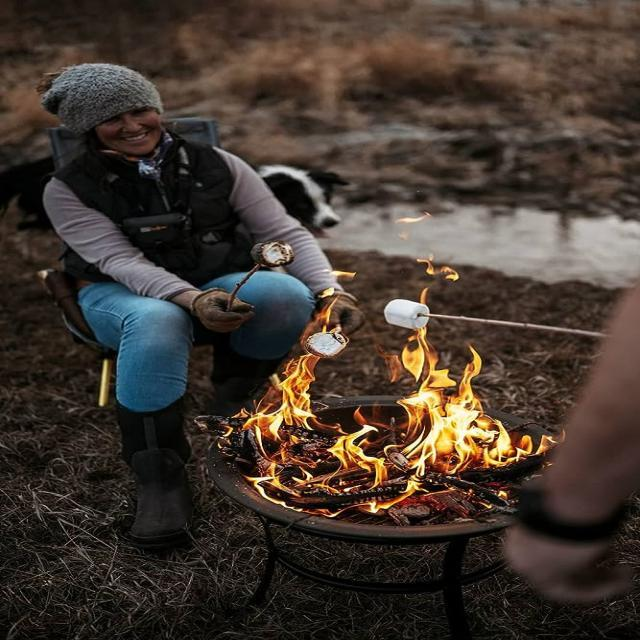Fire: (216, 336, 564, 514)
